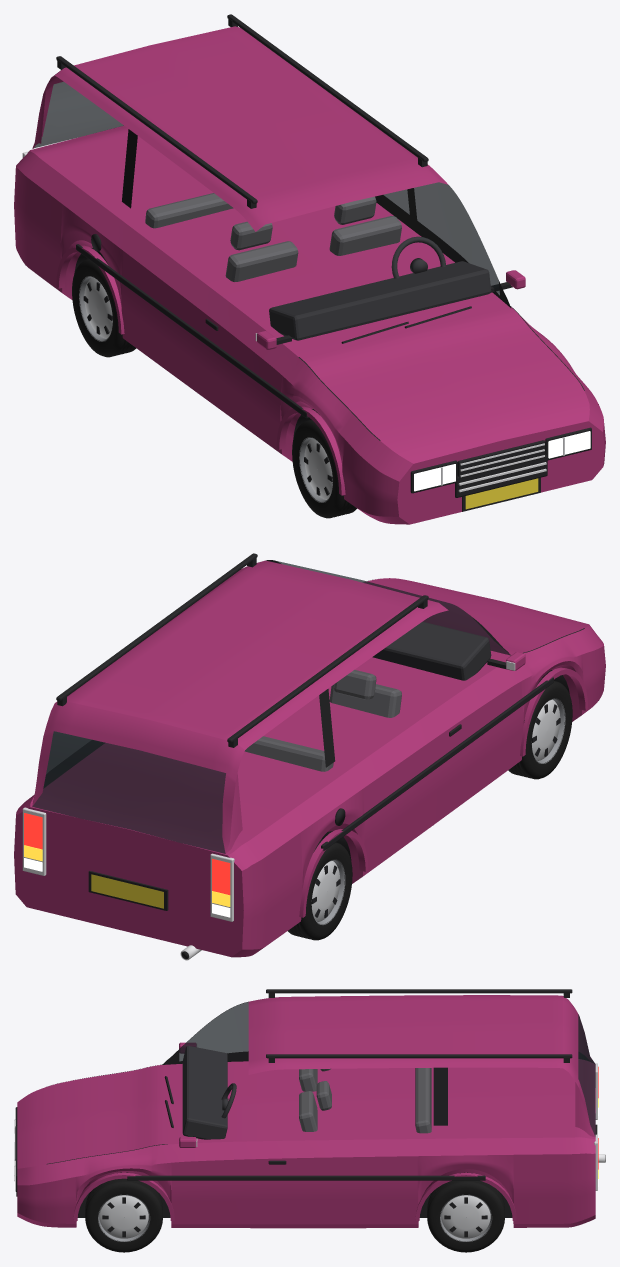
The model's file is spacewagen.glb.
The picture shows the model from 3 angles, top to bottom: view 1: azimuth 30°, elevation 25°; view 2: azimuth 150°, elevation 25°; view 3: azimuth 270°, elevation 25°; orthographic projection. The views are drawn at different scales.
Visible parts, largest first — view 1: cabin_roof, tub, hood, quarter_R, nose, door_R, dash, cabin_glass, fender_R, wheel_FR, wheel_RR, tail (+17 smaller); view 2: cabin_roof, tail, tub, quarter_R, cabin_glass, door_R, hood, dash, fender_R, wheel_FR, wheel_RR, strip_R (+16 smaller); view 3: cabin_roof, tub, quarter_L, door_L, hood, wheel_FL, wheel_RL, fender_L, dash, nose, cabin_glass, tail (+10 smaller).
Boxes of the visible parts, x1,y1,x2,y2 form: cabin_roof: [32, 26, 448, 231]; tub: [40, 135, 507, 356]; hood: [300, 306, 584, 440]; quarter_R: [23, 158, 208, 390]; nose: [364, 391, 605, 524]; door_R: [193, 287, 298, 461]; dash: [269, 261, 491, 340]; cabin_glass: [34, 81, 499, 295]; fender_R: [283, 358, 379, 519]; wheel_FR: [292, 419, 356, 518]; wheel_RR: [72, 256, 136, 357]; tail: [14, 125, 128, 264]; cabin_roof: [32, 560, 448, 853]; tail: [14, 791, 263, 957]; tub: [43, 654, 506, 841]; quarter_R: [248, 719, 436, 955]; cabin_glass: [32, 561, 510, 853]; door_R: [421, 662, 525, 823]; hood: [364, 578, 582, 658]; dash: [372, 621, 491, 680]; fender_R: [517, 629, 600, 721]; wheel_FR: [508, 678, 572, 779]; wheel_RR: [288, 839, 352, 940]; strip_R: [321, 677, 553, 850]; cabin_roof: [248, 995, 595, 1137]; tub: [167, 1061, 572, 1144]; quarter_L: [306, 1137, 572, 1228]; door_L: [167, 1140, 306, 1228]; hood: [46, 1064, 167, 1163]; wheel_FL: [85, 1178, 162, 1252]; wheel_RL: [427, 1180, 504, 1252]; fender_L: [46, 1144, 167, 1227]; dash: [182, 1046, 227, 1139]; nose: [17, 1087, 46, 1226]; cabin_glass: [179, 1002, 595, 1136]; tail: [572, 1059, 595, 1226].
Size of the model in its own units: 1.85 by 1.64 by 4.71.
